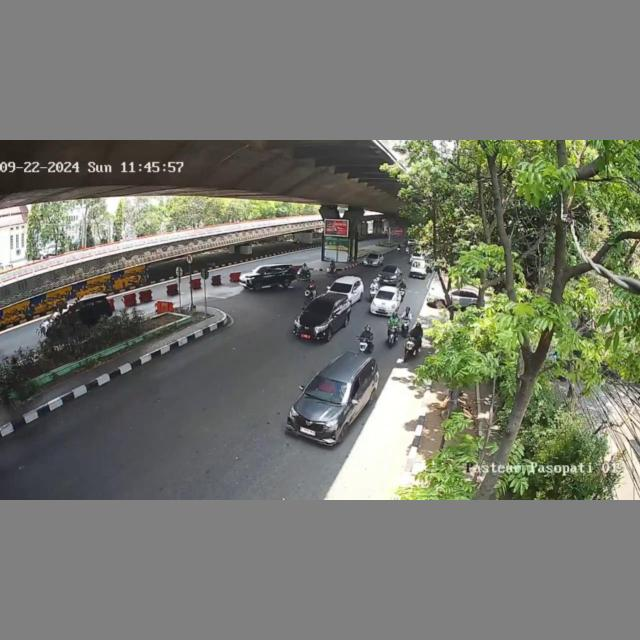windshield: (303, 375, 351, 403), (305, 302, 335, 316), (329, 283, 353, 293), (376, 291, 398, 301)
